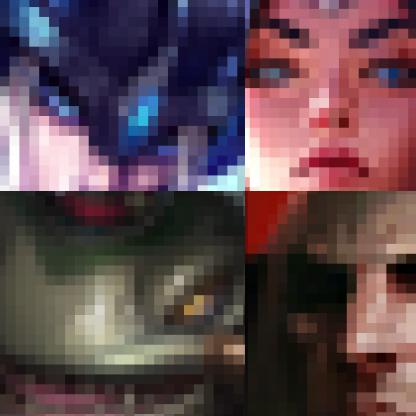Irelia: (245, 0, 415, 190)
Sejuani: (0, 0, 244, 190)
Swain: (245, 191, 415, 415)
Tahm Kench: (0, 191, 244, 415)
